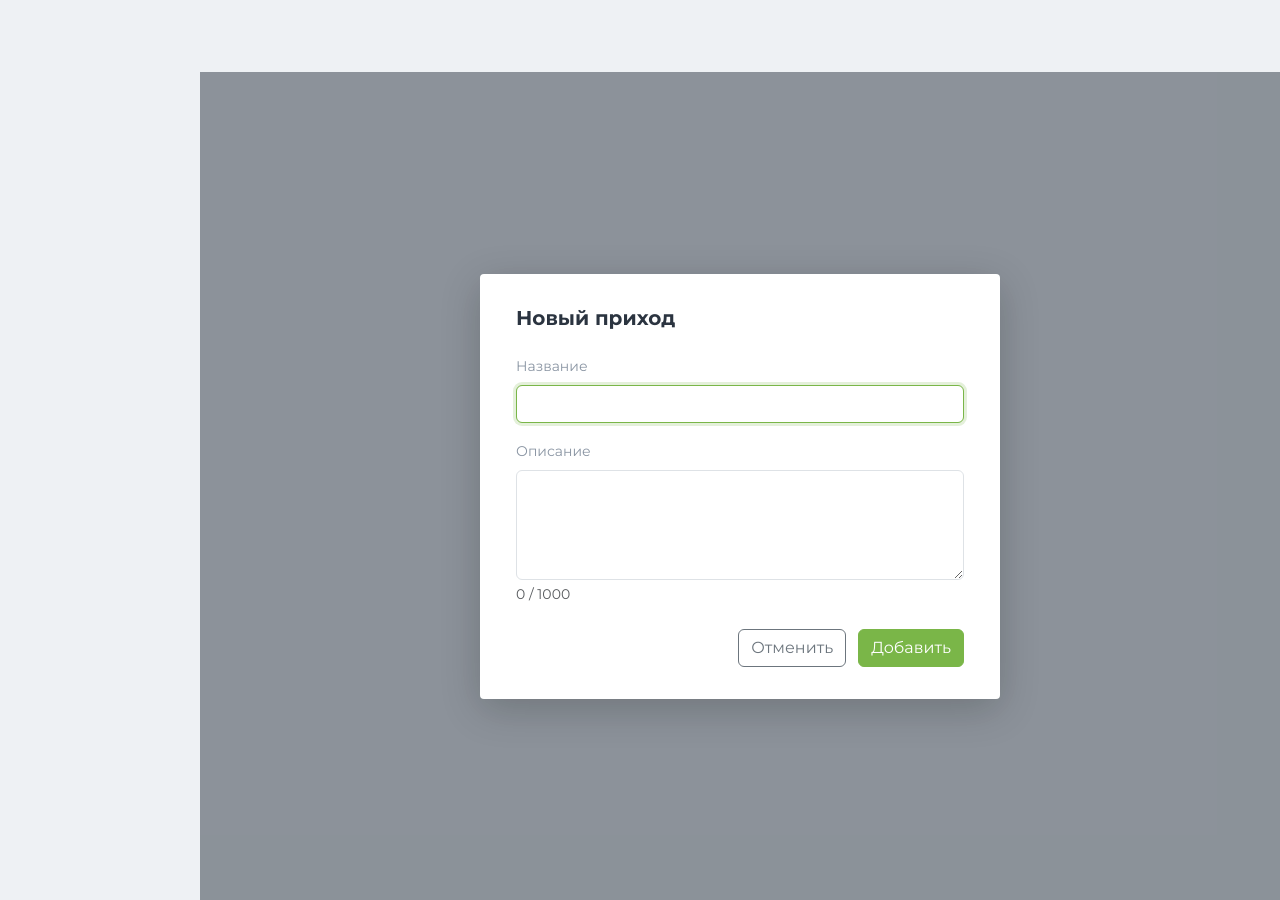
Test case: AddOrderModal › shows an error when submitting an empty form
The image size is (1280, 900).
Click the button "Добавить". click: (911, 648)
box: [858,628,964,666]
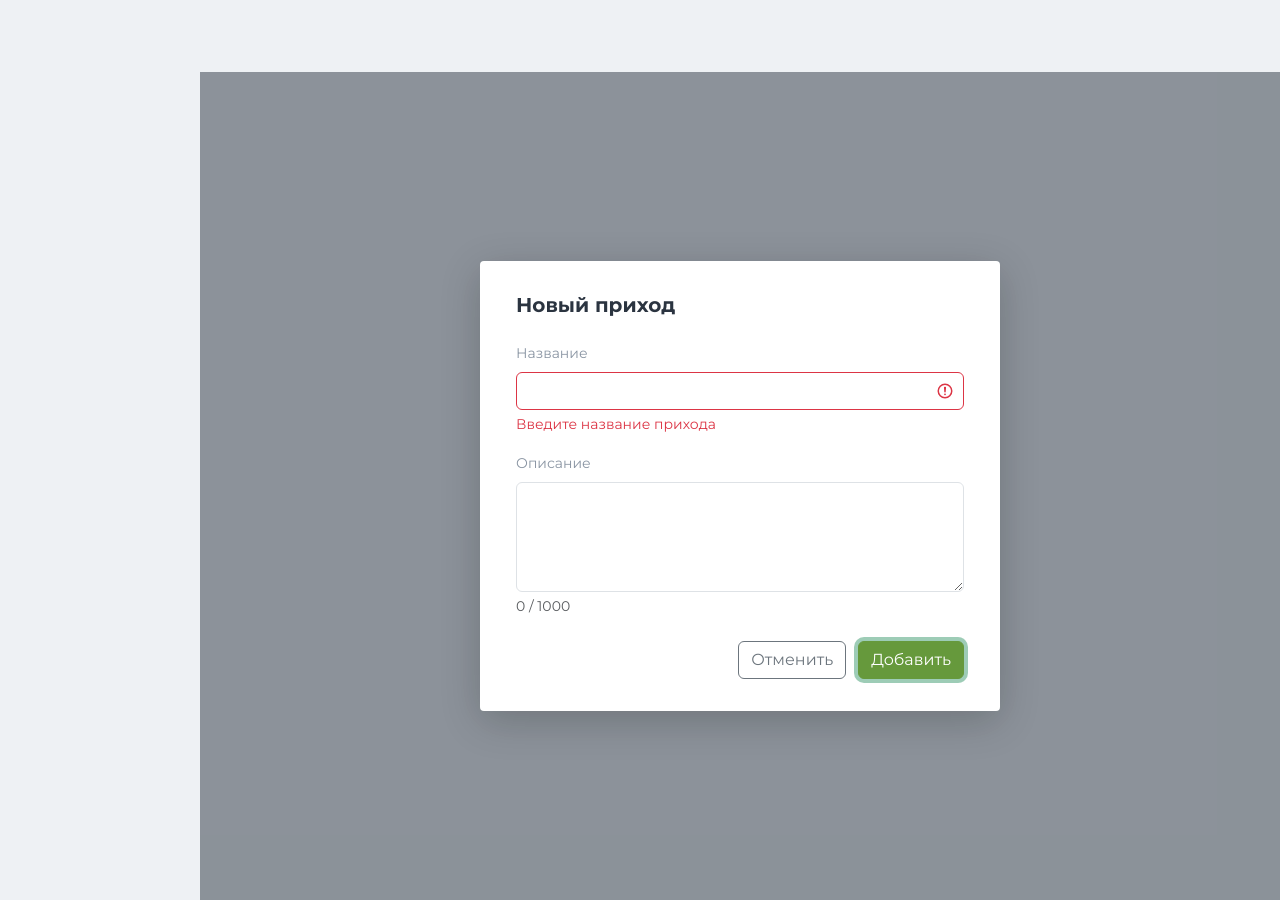
Expected: the text "Введите название прихода" is shown, [516,415,716,433]
